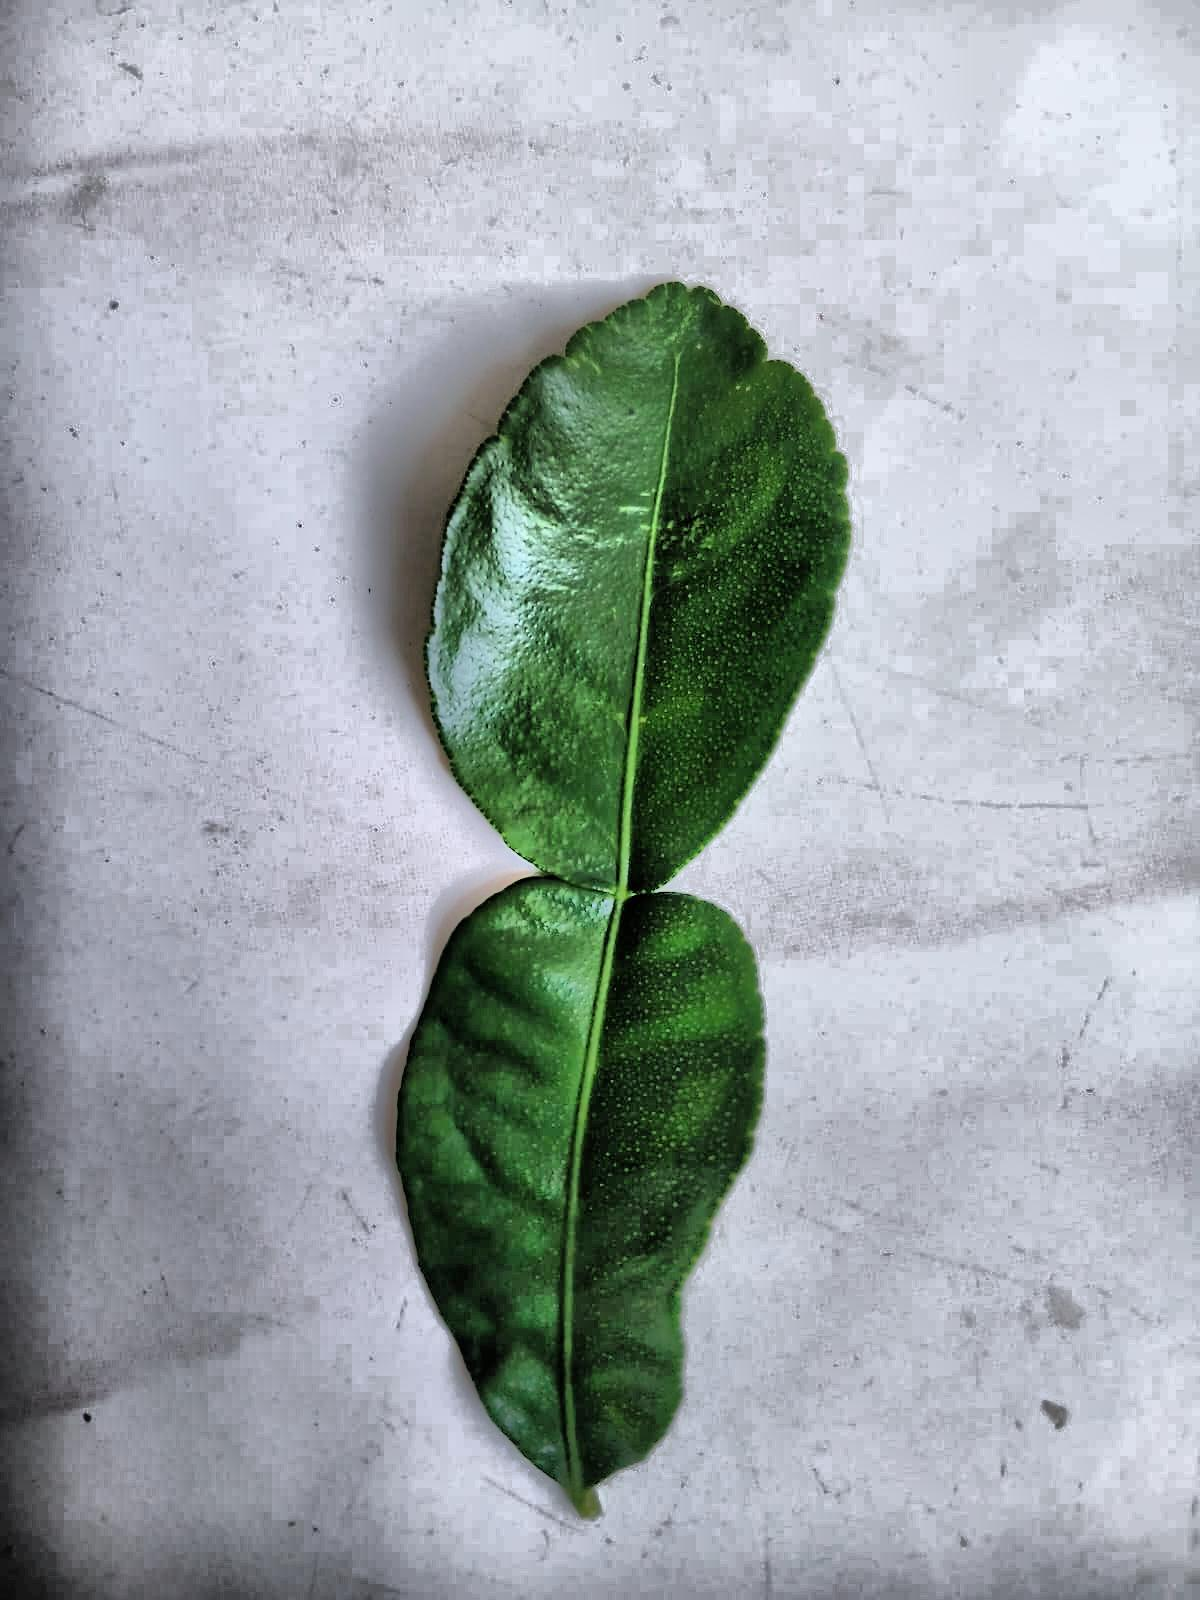daun jeruk: (396, 283, 850, 1514), (614, 654, 616, 659)
